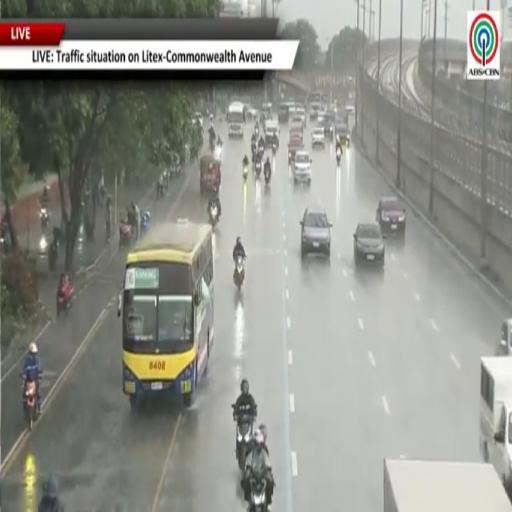bus: (118, 221, 214, 408), (228, 103, 244, 137)
car: (300, 205, 332, 257), (354, 222, 384, 265), (376, 197, 405, 236), (293, 151, 311, 183), (496, 318, 511, 356), (288, 135, 303, 164), (334, 120, 350, 147), (264, 120, 279, 146), (319, 118, 333, 139), (312, 127, 324, 148), (295, 106, 306, 127), (310, 102, 321, 120), (291, 115, 304, 129), (247, 106, 258, 120), (194, 112, 203, 126), (317, 110, 325, 124), (289, 104, 296, 119)
motorcycle: (236, 414, 253, 470), (249, 473, 268, 512), (24, 381, 37, 430), (57, 281, 74, 316), (234, 255, 244, 291), (48, 236, 58, 271), (119, 222, 133, 246), (209, 203, 218, 228), (141, 212, 150, 235), (40, 207, 49, 230), (39, 235, 48, 254), (254, 159, 262, 178), (264, 167, 271, 185), (215, 146, 221, 162), (252, 144, 257, 163), (336, 149, 341, 166), (243, 166, 248, 182), (258, 146, 264, 158), (254, 125, 259, 137), (273, 143, 276, 156)
truck: (384, 459, 511, 511), (480, 357, 511, 492)
